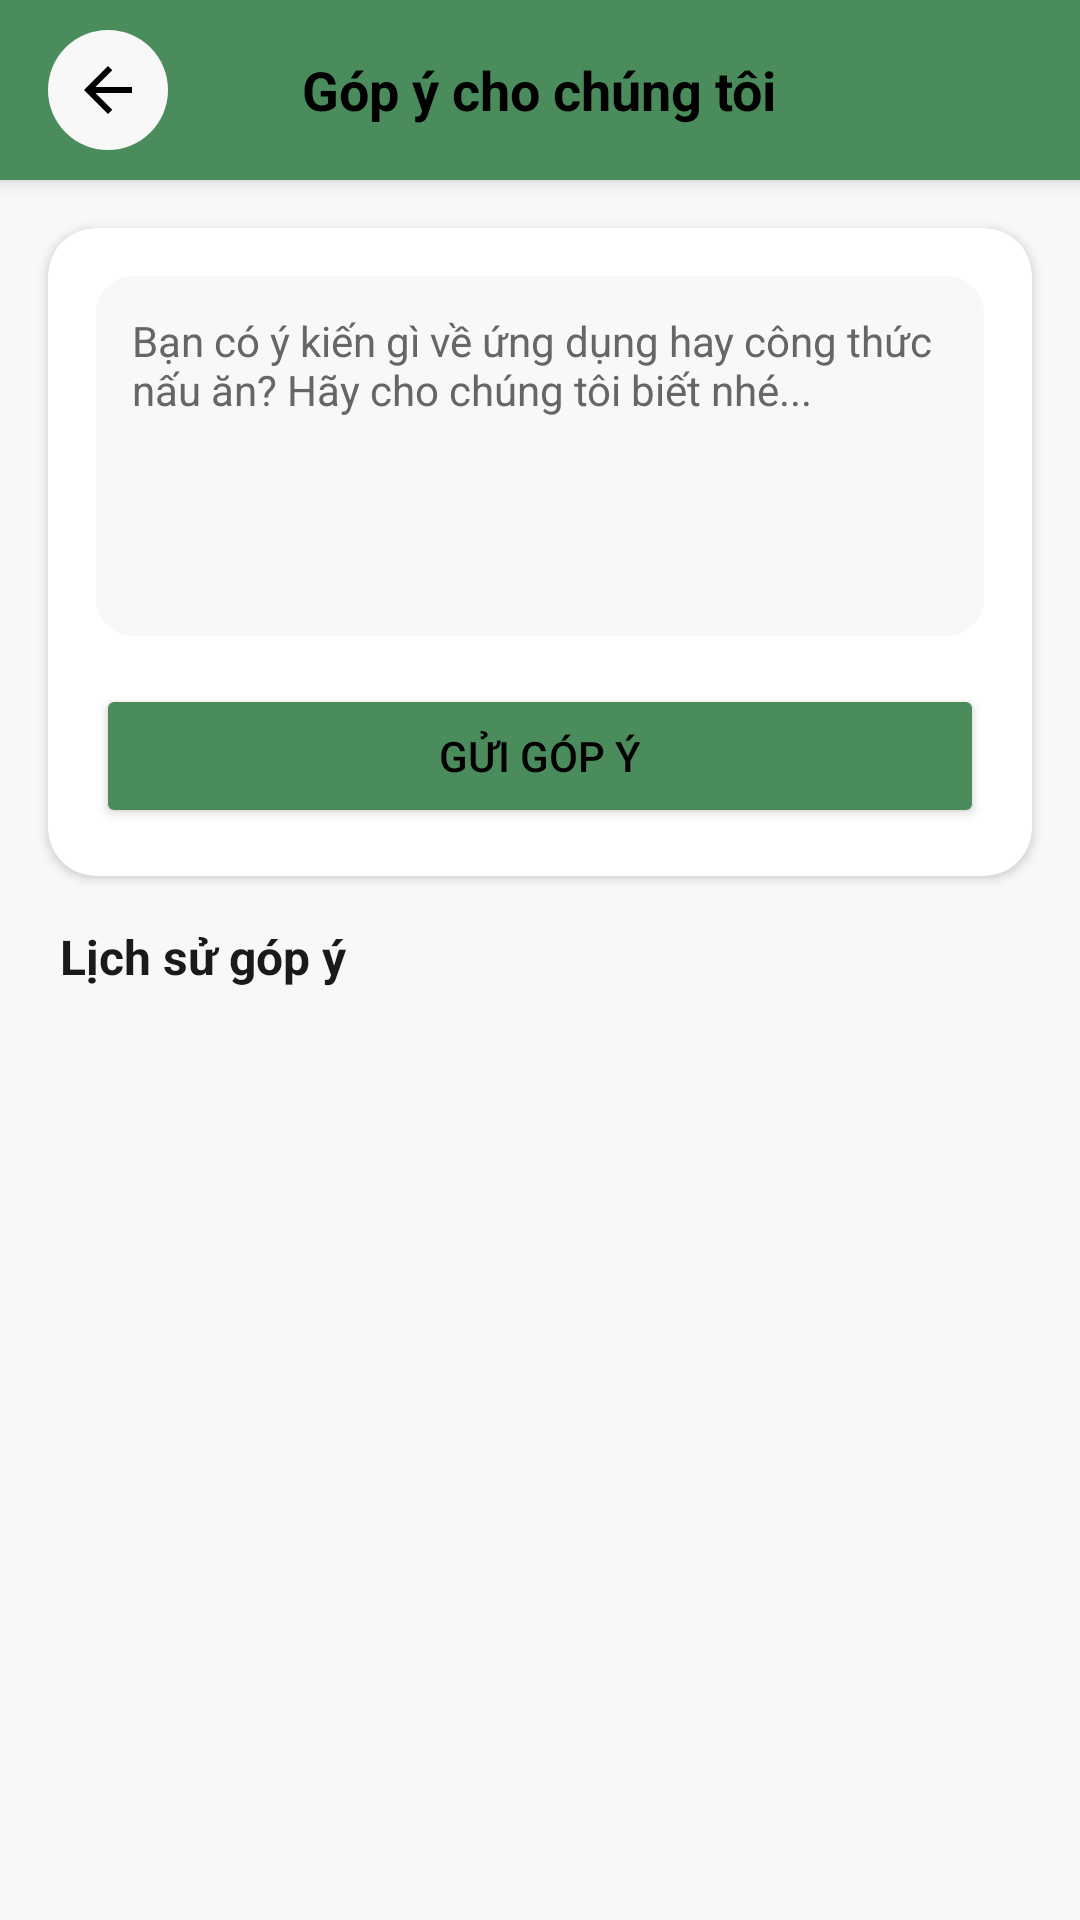

Locate icon controls on the screen. Image size 1080x1920, boxes as bbox=[x1, y1, x2, y2].
arrow back: bbox=[48, 30, 168, 150]
